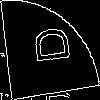D: (25, 24, 70, 67)
